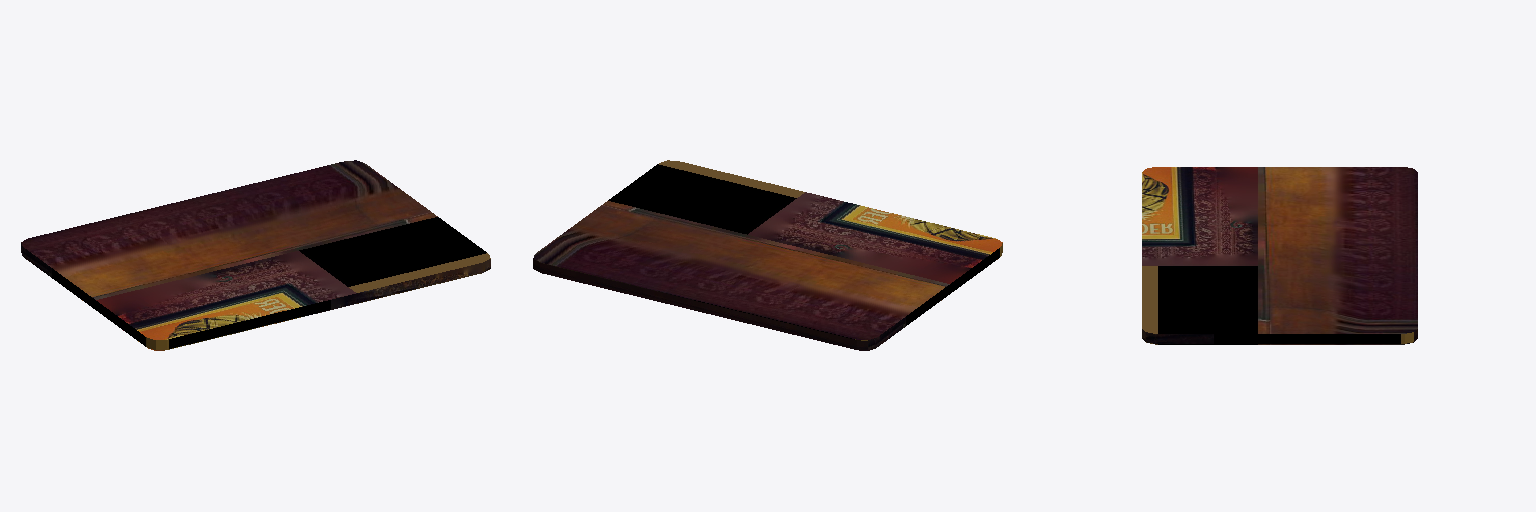
3 renders of one model, left to right at view 1: azimuth 30°, elevation 25°; view 2: azimuth 150°, elevation 25°; view 3: azimuth 270°, elevation 25°, orthographic.
Visible parts, largest first — view 1: Kitchen_GEO_GRP1_Ceiling; view 2: Kitchen_GEO_GRP1_Ceiling; view 3: Kitchen_GEO_GRP1_Ceiling.
Part boxes in pixels (left/top/right/bottom): Kitchen_GEO_GRP1_Ceiling: left=21, top=160, right=490, bottom=350; Kitchen_GEO_GRP1_Ceiling: left=533, top=160, right=1002, bottom=350; Kitchen_GEO_GRP1_Ceiling: left=1142, top=167, right=1417, bottom=344.
Size of the model in its own units: 4.91 by 0.1533 by 3.44.
1 materials, 1 textured.